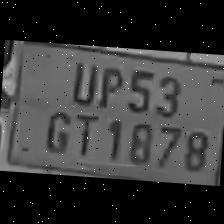1: (97, 110, 124, 162)
3: (151, 69, 184, 117)
5: (122, 61, 156, 113)
7: (152, 119, 178, 170)
8: (122, 115, 154, 167), (178, 124, 208, 172)
G: (40, 104, 72, 154)
P: (94, 61, 126, 112)
T: (69, 108, 102, 156)
U: (65, 56, 98, 106)
